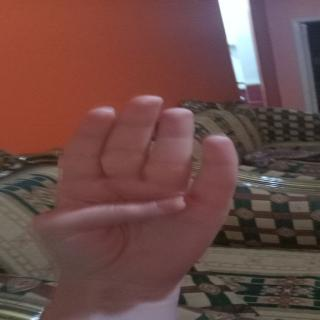KAAF: (24, 92, 246, 276)
